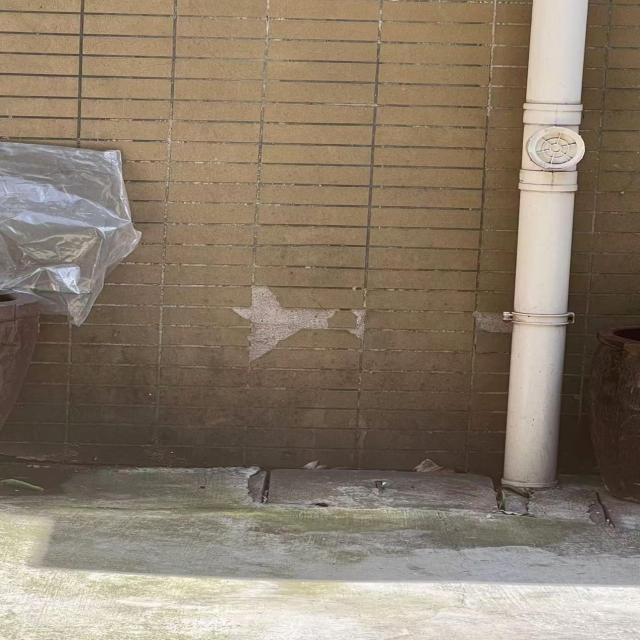spalling: (230, 280, 370, 374)
